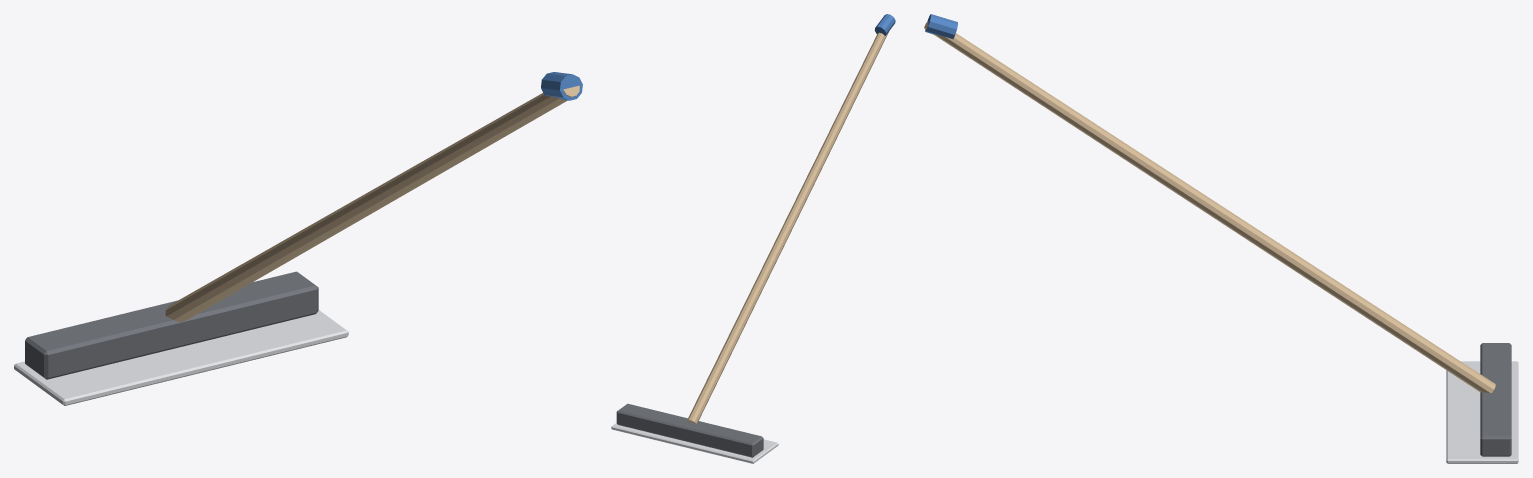
The model's file is ice-hockey-arena-and-locker-room-ice-scraper-94103acc__33707.glb.
The picture shows the model from 3 angles, left to right: view 1: azimuth 30°, elevation 25°; view 2: azimuth 150°, elevation 25°; view 3: azimuth 270°, elevation 25°; orthographic projection. The views are drawn at different scales.
Visible parts, largest first — view 1: ice-scraper; view 2: ice-scraper; view 3: ice-scraper.
Boxes of the visible parts, bbox=[...] form: ice-scraper: bbox=[14, 72, 582, 405]; ice-scraper: bbox=[611, 14, 895, 463]; ice-scraper: bbox=[924, 14, 1518, 463].
Bounding box in the file's own units: 0.52 × 0.9789 × 1.32.
